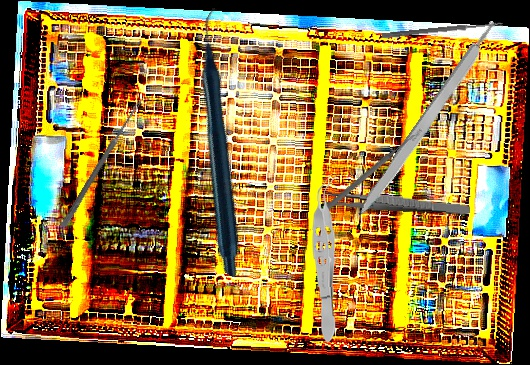Dressing Forceps: (321, 190, 471, 217)
Handpiece: (99, 7, 348, 278)
Pusher: (318, 131, 418, 217)
Scalpel Handle: (354, 19, 503, 221)
Surgical Spoon: (60, 100, 142, 229), (382, 20, 503, 40)
Tissue Forceps: (309, 174, 343, 343)
